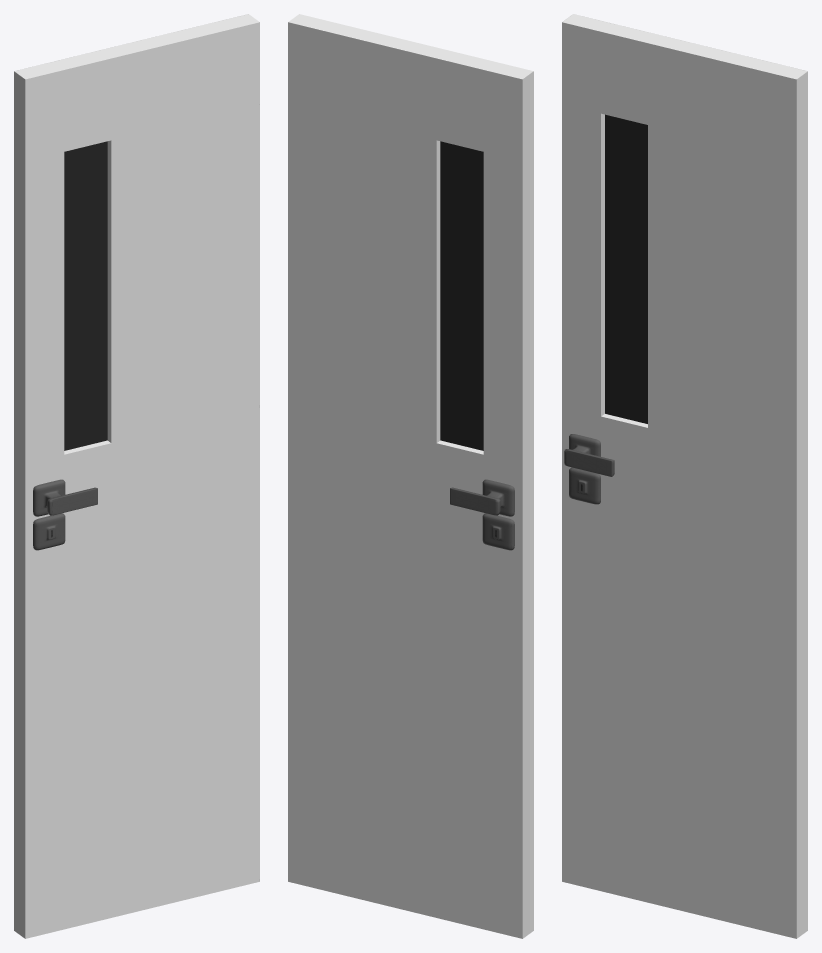
Rendered from porta sala COMUM.fbx.
3 views of the same model, side by side, from view 1: azimuth 30°, elevation 25°; view 2: azimuth 150°, elevation 25°; view 3: azimuth 330°, elevation 25° (orthographic).
Parts seen in each view (by area): view 1: porta branca, vidro, macaneta; view 2: porta branca, vidro, macaneta; view 3: porta branca, vidro, macaneta.
Boxes of the visible parts, x1,y1,x2,y2 form: porta branca: (14, 14, 259, 938); vidro: (64, 141, 107, 450); macaneta: (33, 479, 97, 550); porta branca: (288, 14, 533, 938); vidro: (440, 141, 483, 450); macaneta: (450, 479, 514, 550); porta branca: (562, 14, 807, 938); vidro: (605, 114, 647, 423); macaneta: (564, 434, 614, 504).
Size of the model in its own units: 0.6 by 2.1 by 0.1501.
4 materials, 4 textured.
